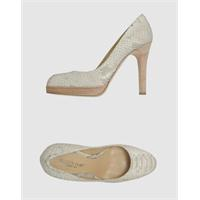shoe: (46, 14, 153, 96), (40, 144, 155, 182)
